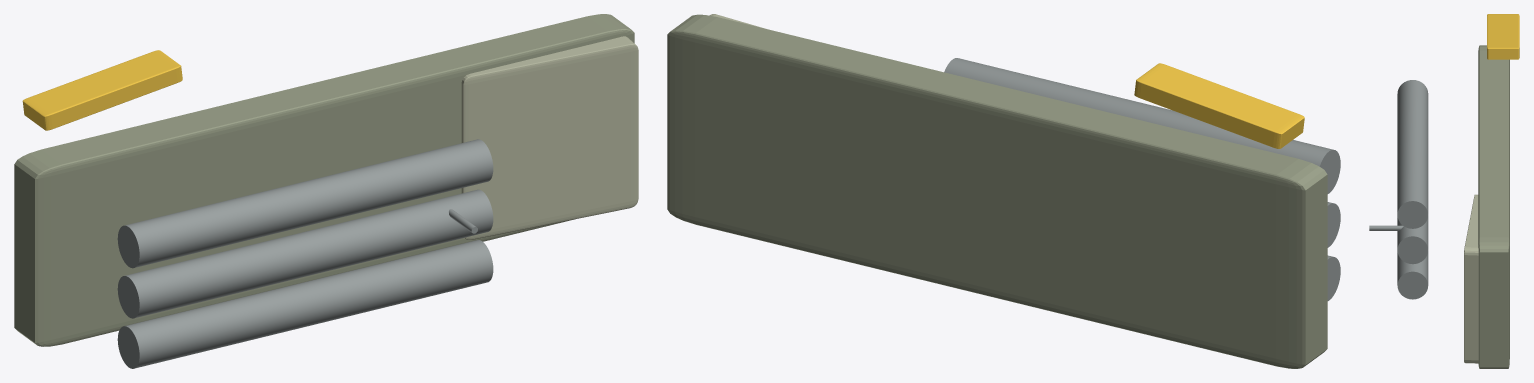
File: v-x02-vanguard-cruise-lod2.glb
The picture shows the model from 3 angles, left to right: view 1: azimuth 30°, elevation 25°; view 2: azimuth 150°, elevation 25°; view 3: azimuth 270°, elevation 25°; orthographic projection. The views are drawn at different scales.
Visible parts, largest first — view 1: strategic_lower, strategic_nose, cruise_canister_0, cruise_canister_4, cruise_canister_2, strategic_jack_1; view 2: strategic_lower, strategic_jack_1, cruise_canister_4; view 3: strategic_lower, cruise_canister_4, strategic_nose, strategic_jack_1, cruise_canister_0, cruise_canister_2, cruise_radar_mast.
Part boxes in pixels (x1,y1,x2,y2): strategic_lower: (14, 14, 634, 346); strategic_nose: (461, 36, 638, 239); cruise_canister_0: (117, 240, 493, 368); cruise_canister_4: (117, 139, 493, 268); cruise_canister_2: (117, 189, 493, 318); strategic_jack_1: (22, 50, 182, 130); strategic_lower: (667, 14, 1327, 368); strategic_jack_1: (1134, 63, 1304, 148); cruise_canister_4: (944, 58, 1340, 193); strategic_lower: (1478, 45, 1509, 368); cruise_canister_4: (1397, 80, 1428, 228); strategic_nose: (1464, 194, 1478, 363); strategic_jack_1: (1487, 14, 1519, 59); cruise_canister_0: (1397, 250, 1428, 299); cruise_canister_2: (1397, 215, 1428, 264); cruise_radar_mast: (1369, 225, 1403, 230).
Size of what is drawn, in the model's own units: 10.22 by 3.97 by 3.15.
